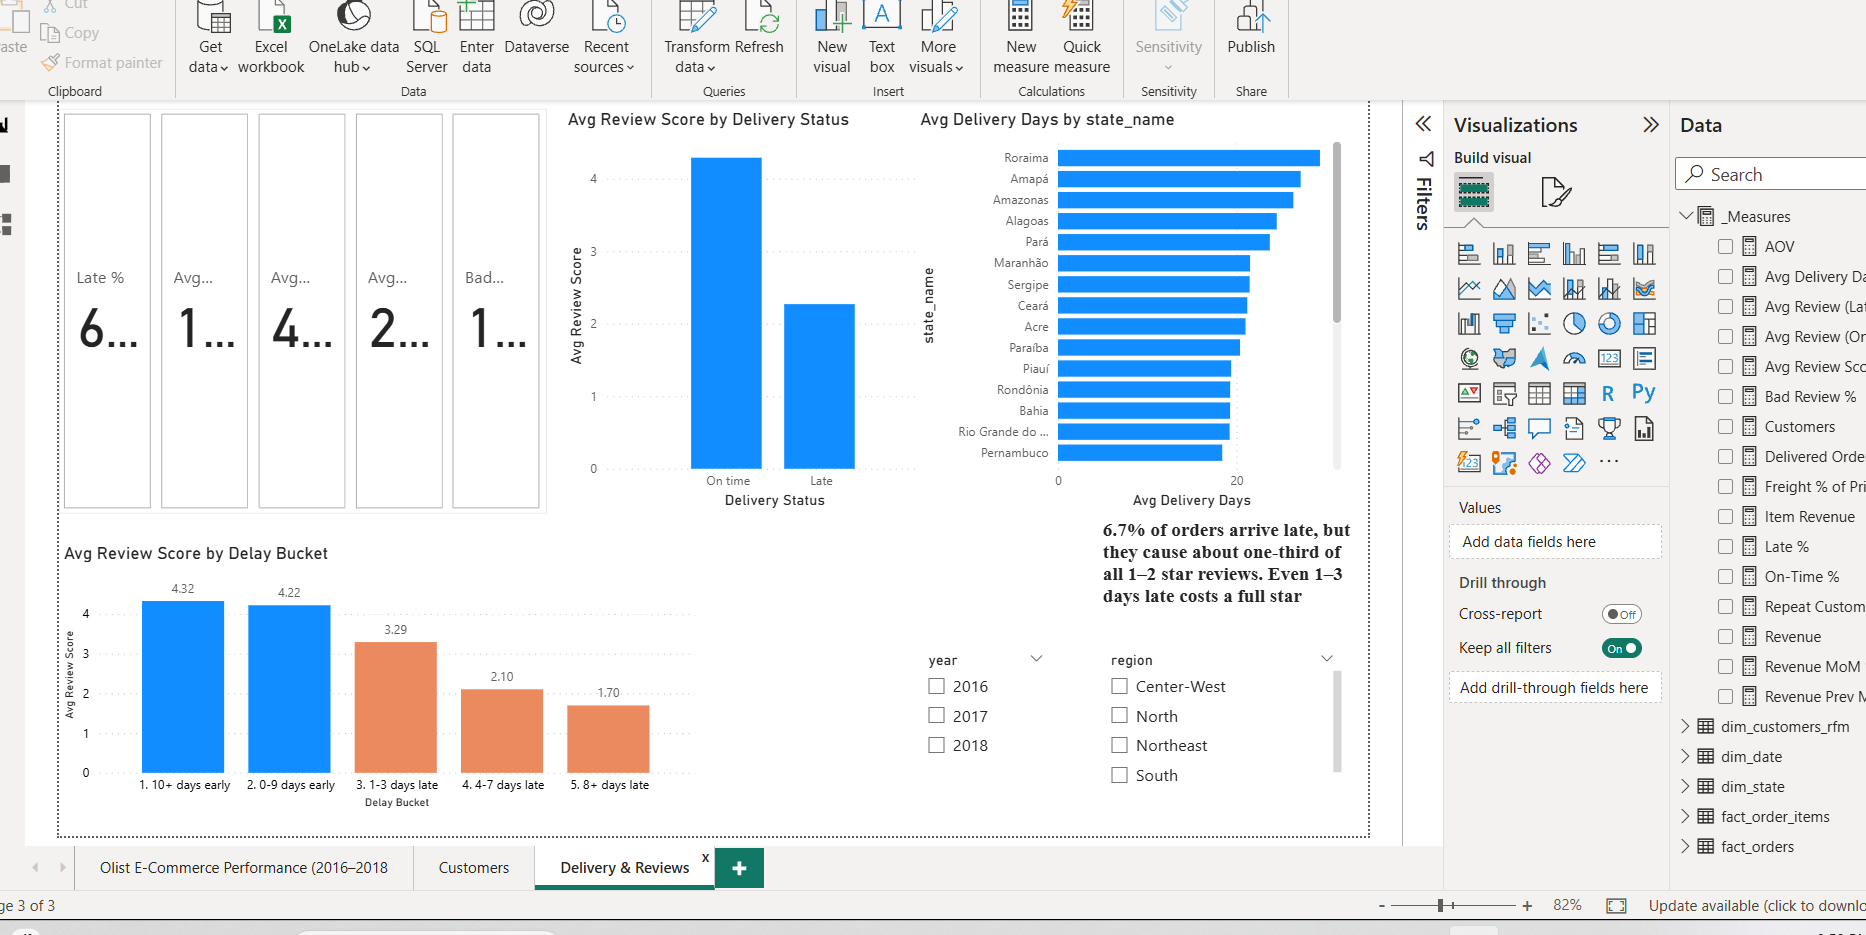

Layout of this report page (visuals, bound fields, positions):
{"tool":"powerbi","page":{"name":"Delivery & Reviews","canvas":[1280,720],"ordinal":2},"visuals":[{"type":"cardVisual","fields":{"Data":["_Measures.Late %","_Measures.Avg Delivery Days","_Measures.Avg Review (On Time)","_Measures.Avg Review (Late)","_Measures.Bad Review %"]},"box":[0,8.6,476.7,396.1],"z":0},{"type":"clusteredColumnChart","fields":{"Category":["fact_orders.Delay Bucket"],"Y":["_Measures.Avg Review Score"]},"box":[0,432.7,627.1,265.3],"z":1000},{"type":"clusteredColumnChart","fields":{"Category":["fact_orders.Delivery Status"],"Y":["_Measures.Avg Review Score"]},"box":[492.6,8.6,376.5,396.1],"z":2000},{"type":"barChart","title":"Average delivery days by state","fields":{"Category":["dim_state.state_name"],"Y":["_Measures.Avg Delivery Days"]},"box":[837.4,8.6,421.7,396.1],"z":3000},{"type":"slicer","fields":{"Values":["dim_date.year"]},"box":[836.8,533.8,137.6,186.3],"z":6000},{"type":"slicer","fields":{"Values":["dim_state.region"]},"box":[1016.2,533.8,243.3,148.7],"z":7000},{"type":"textbox","box":[1015.8,404.6,264,129.6],"z":7001}]}

Visuals, with their boxes on the page's 1280x720 design canvas (x1, y1, x2, y2). These are canvas units, not pixel positions in the 1866x935 screenshot, which may show the page scaled, cropped or inside an application window:
cardVisual - _Measures.Late % x _Measures.Avg Delivery Days: <box>0,9,477,405</box>
clusteredColumnChart - fact_orders.Delay Bucket x _Measures.Avg Review Score: <box>0,433,627,698</box>
clusteredColumnChart - fact_orders.Delivery Status x _Measures.Avg Review Score: <box>493,9,869,405</box>
"Average delivery days by state" barChart: <box>837,9,1259,405</box>
slicer - dim_date.year: <box>837,534,974,720</box>
slicer - dim_state.region: <box>1016,534,1260,682</box>
textbox: <box>1016,405,1280,534</box>
